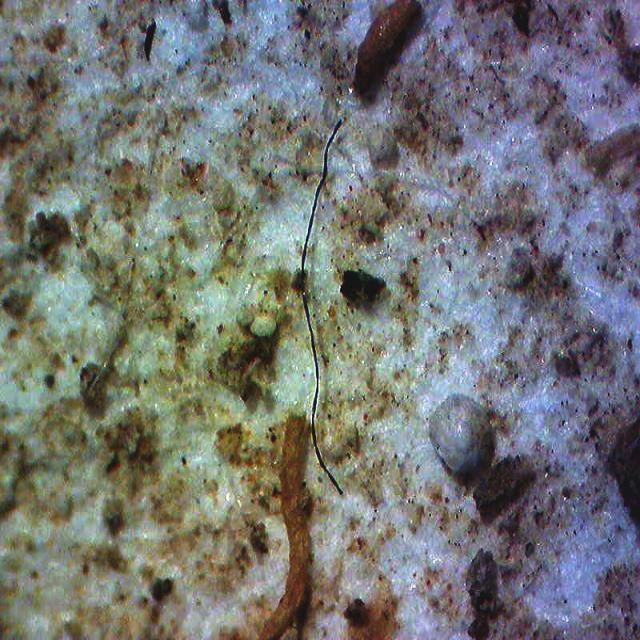microplastic: (300, 118, 344, 495)
